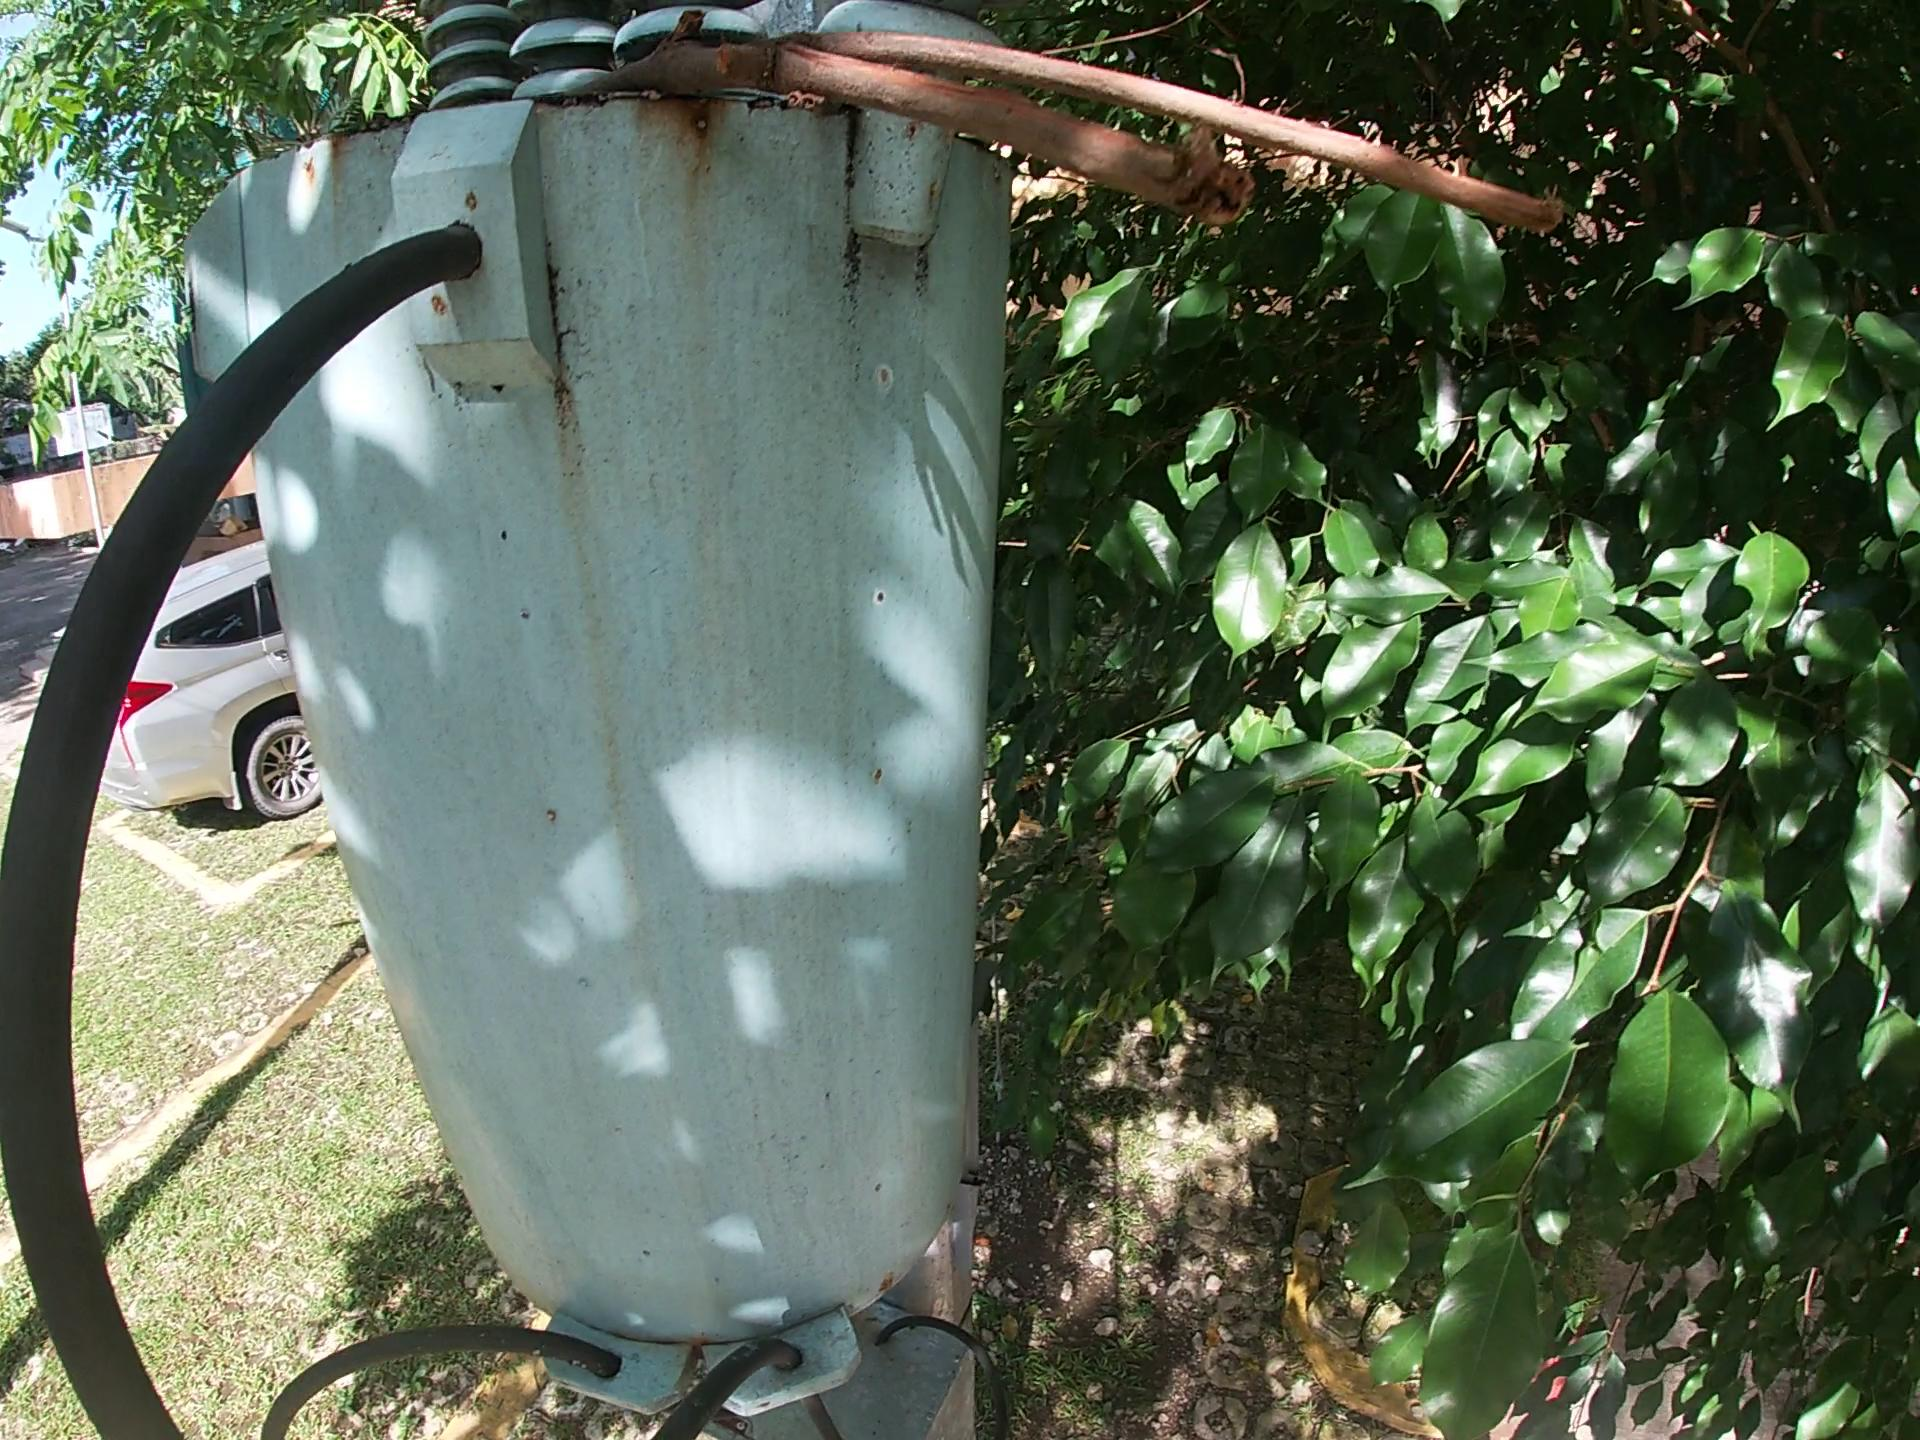tree branch: (494, 2, 1587, 256)
